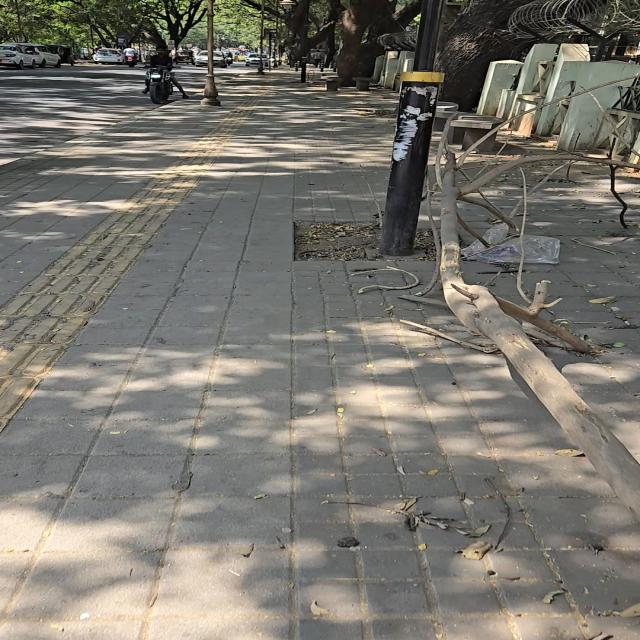obstacle: (401, 122, 639, 518), (380, 0, 444, 255), (436, 0, 530, 110), (337, 0, 421, 83), (148, 0, 206, 46), (201, 0, 221, 106), (301, 0, 310, 82), (257, 0, 264, 74), (268, 29, 271, 71)
